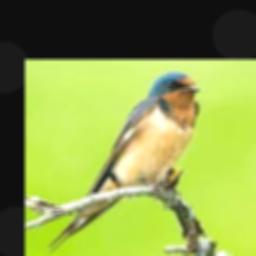Swallow: (47, 71, 200, 254)
